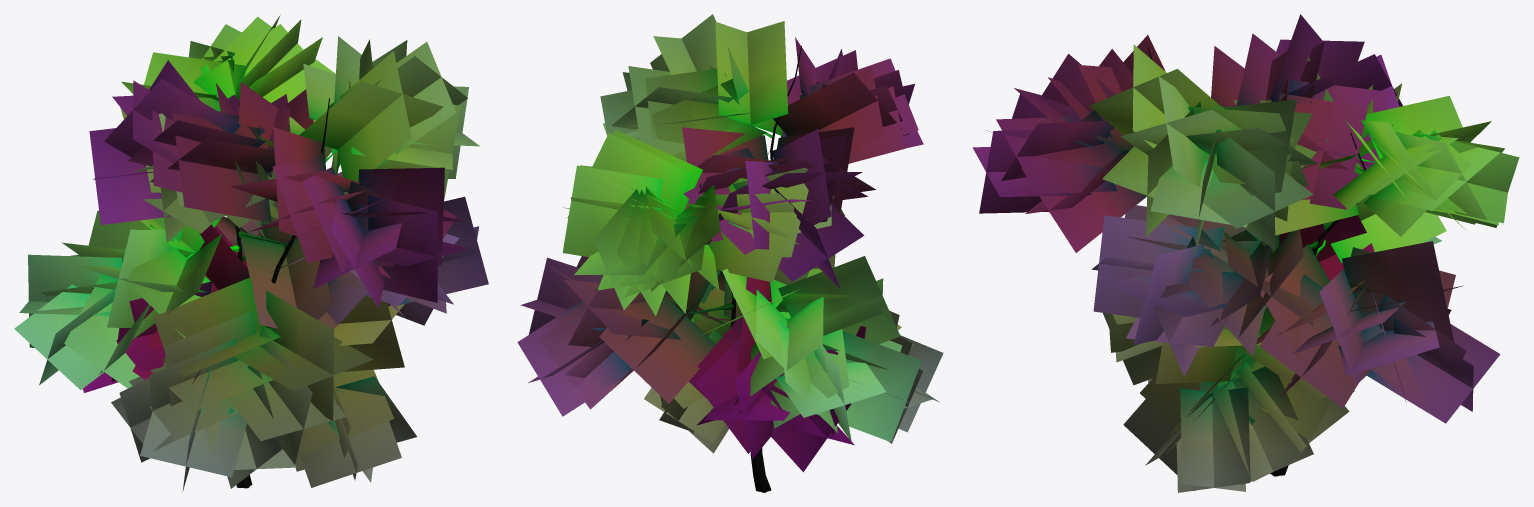
File: URP_P14_Tree_7_LOD_1.fbx
3 renders of one model, left to right at view 1: azimuth 30°, elevation 25°; view 2: azimuth 150°, elevation 25°; view 3: azimuth 270°, elevation 25°, orthographic. The views are drawn at different scales.
Visible parts, largest first — view 1: Tree_7_LOD_1; view 2: Tree_7_LOD_1; view 3: Tree_7_LOD_1.
Part boxes in pixels (x1,y1,x2,y2): Tree_7_LOD_1: (14,15,488,491); Tree_7_LOD_1: (517,14,943,492); Tree_7_LOD_1: (972,14,1519,492).
Bounding box in the file's own units: 407 × 451 × 492.
